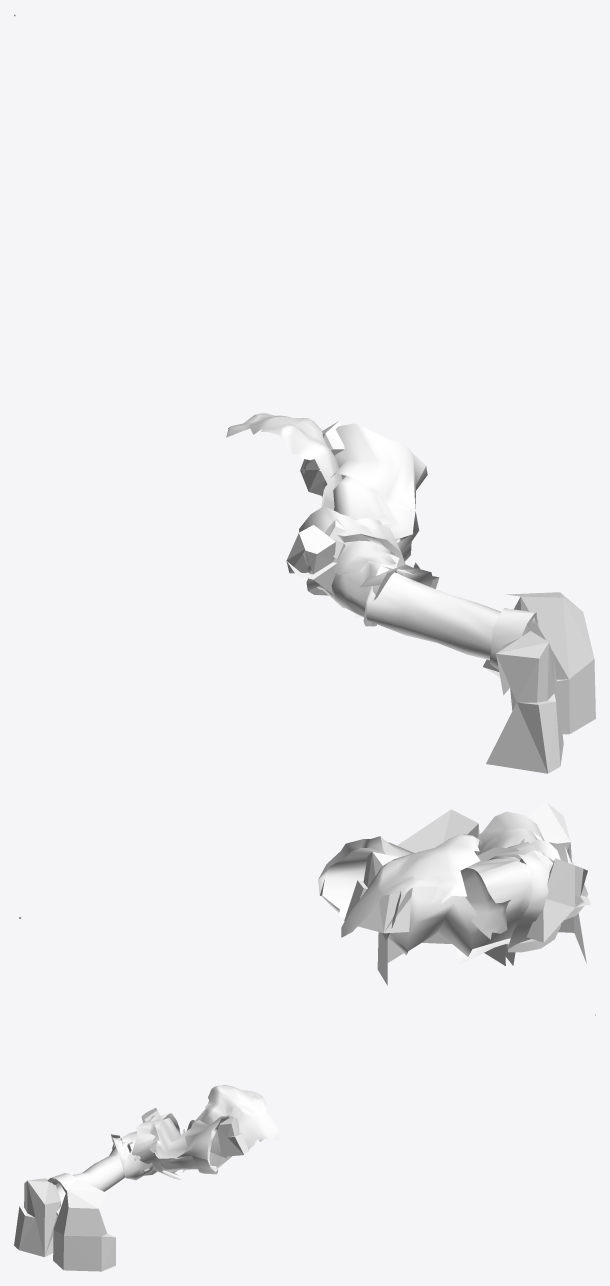
3 views of the same model, one above another, from view 1: azimuth 30°, elevation 25°; view 2: azimuth 150°, elevation 25°; view 3: azimuth 270°, elevation 25° (orthographic). The views are drawn at different scales.
Visible parts, largest first — view 1: part3; view 2: part3; view 3: part3.
Part boxes in pixels (x1,y1,x2,y2): part3: (14, 14, 595, 773); part3: (19, 802, 590, 985); part3: (14, 1014, 595, 1271).
Bounding box in the file's own units: 168 × 276 × 650.
Materials: 3 (3 with a texture image).
